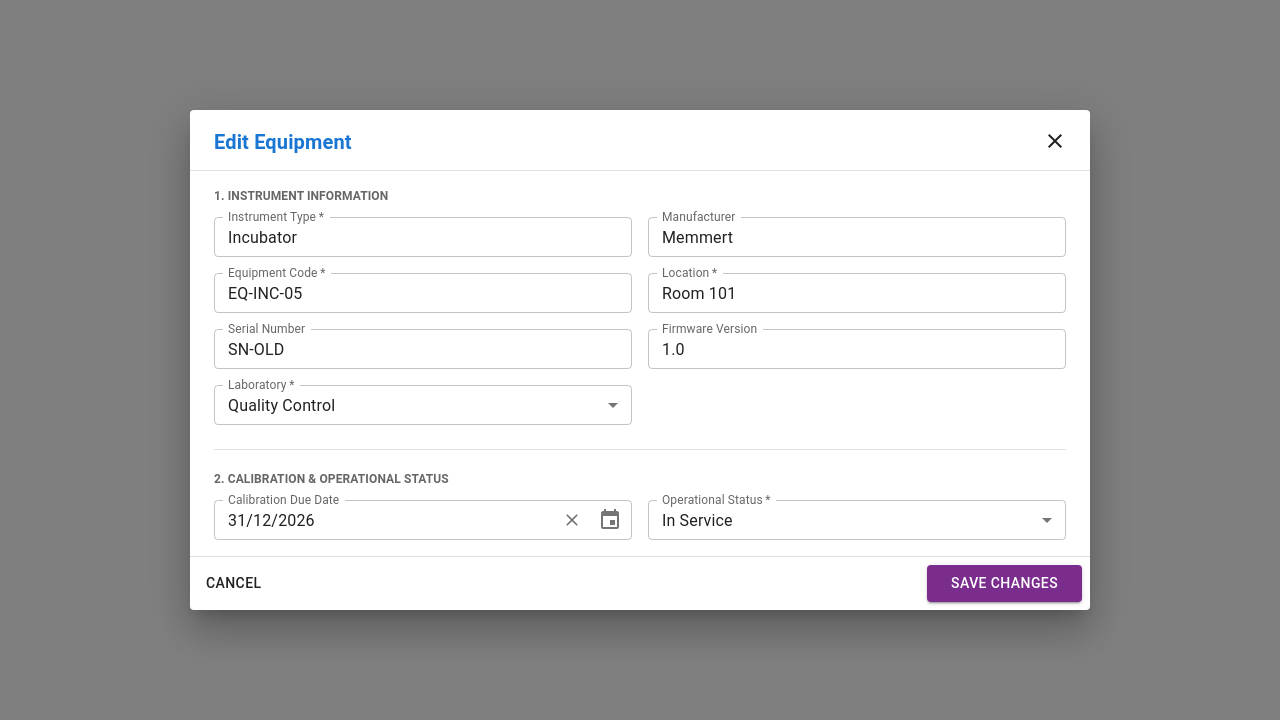
RegisterEquipmentDialog › displays the server error message when updating equipment with a duplicate serial number
Replace the text in the field labelled "Serial Number" with "SN-EXISTING-123": {"x": 423, "y": 349} [214,329,632,369]
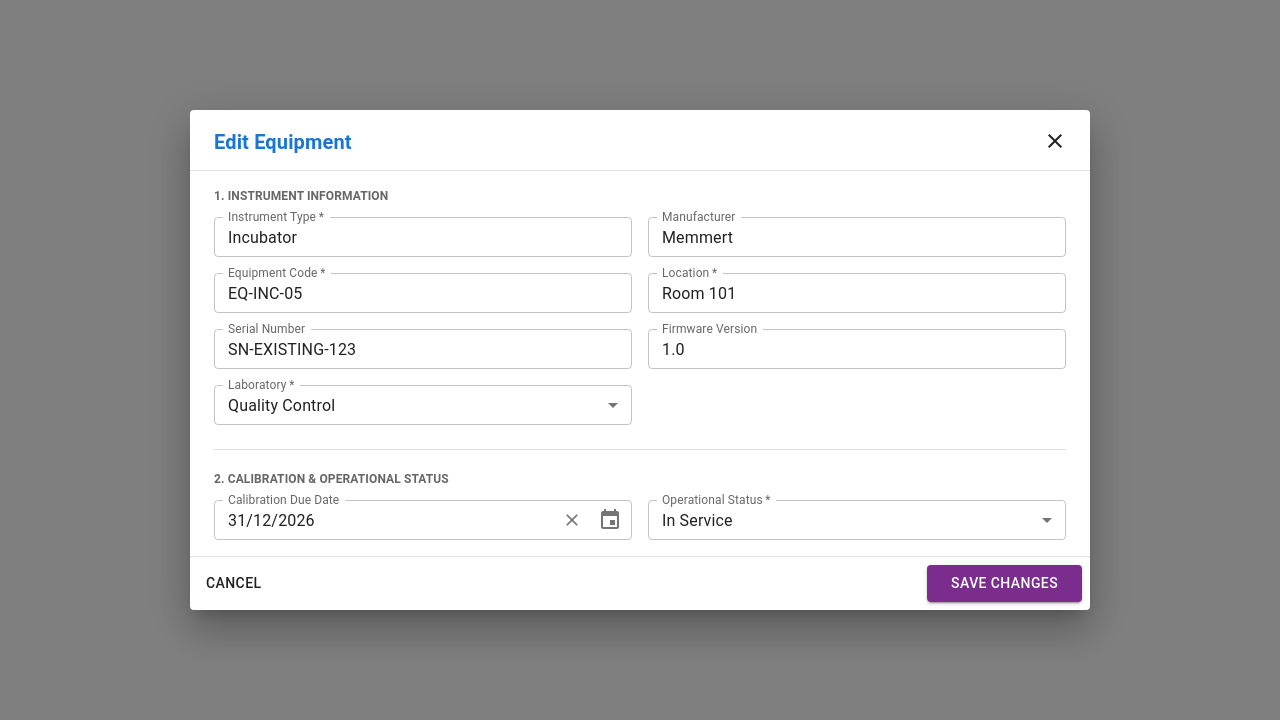
Click the button "Save Changes": {"x": 1005, "y": 584} [927,565,1082,602]
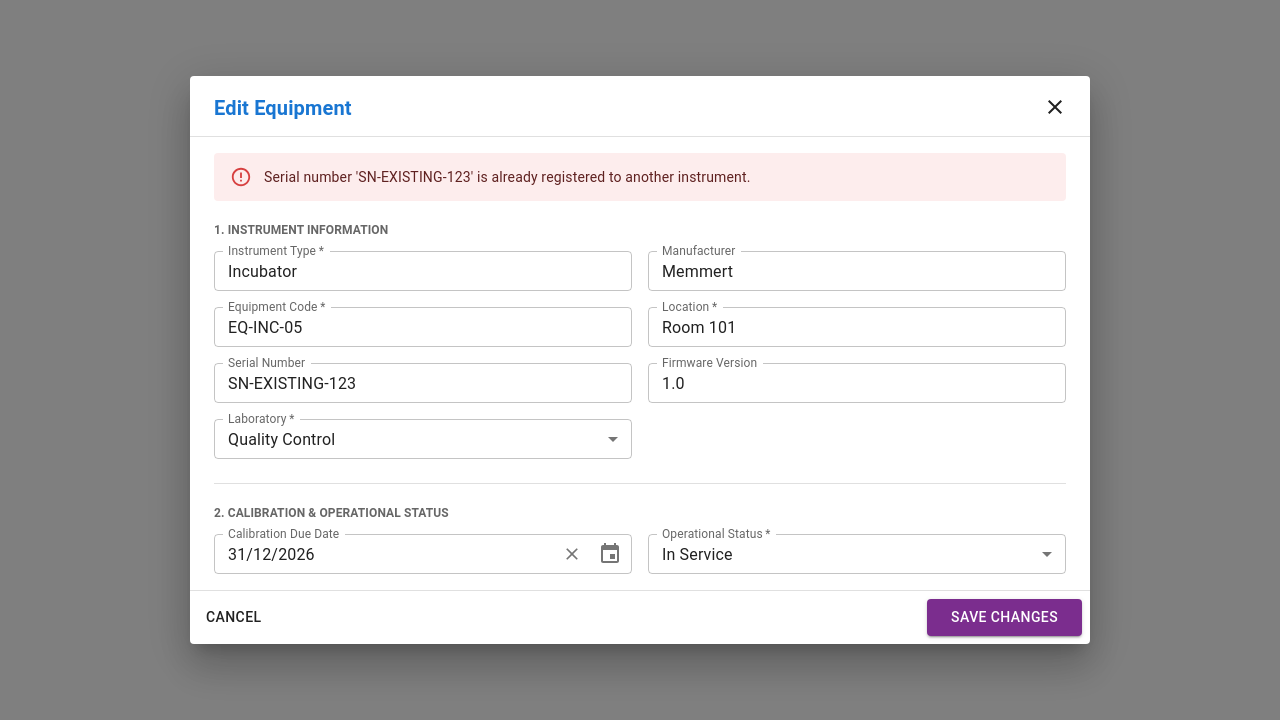
Now the text "Serial number 'SN-EXISTING-123' is already registered to another instrument." is shown, box [264,169,750,185]
